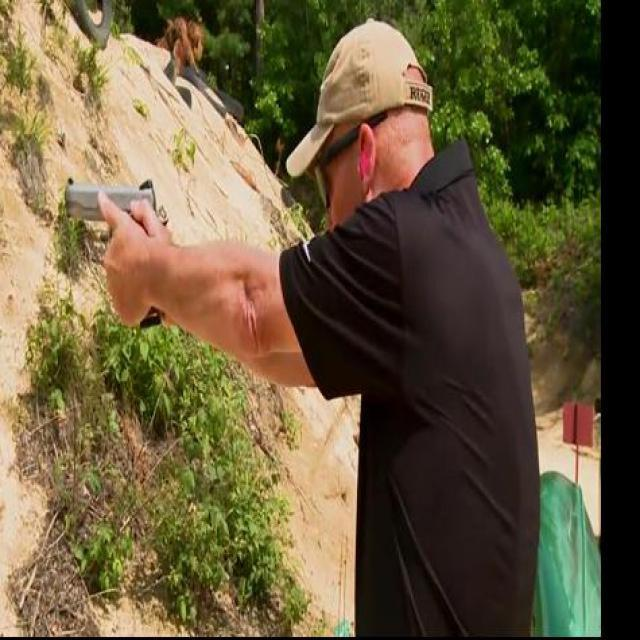weapon: (64, 180, 164, 332)
